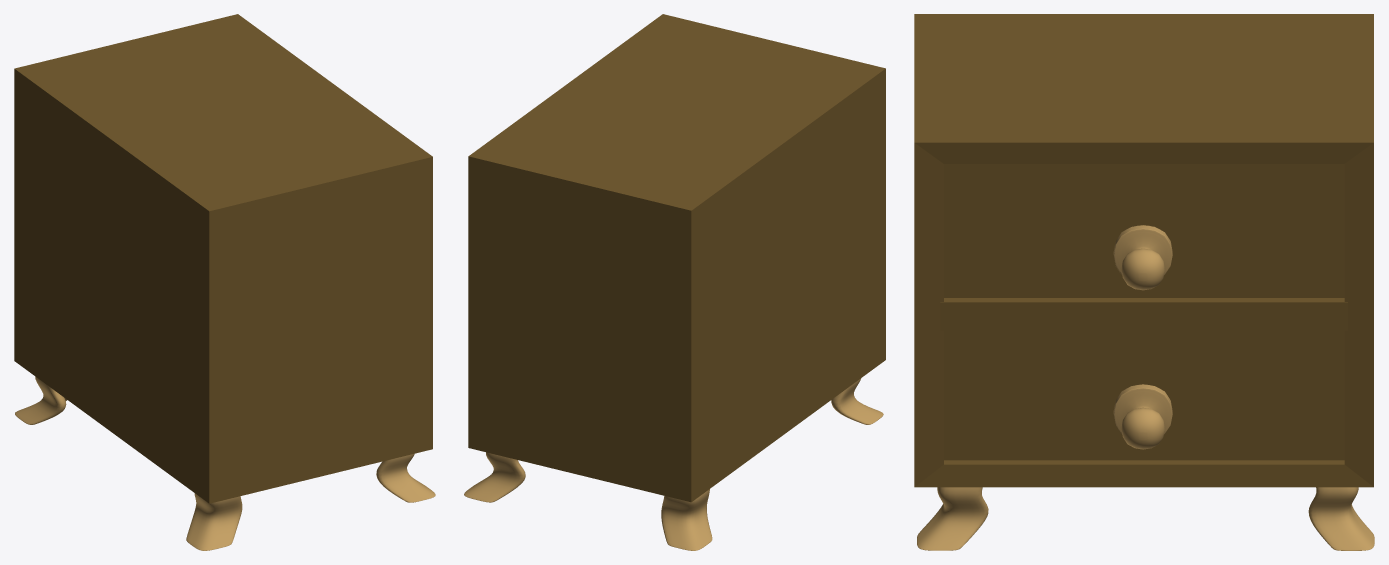
Rendered from Bedside_Table.fbx.
The picture shows the model from 3 angles, left to right: view 1: azimuth 30°, elevation 25°; view 2: azimuth 150°, elevation 25°; view 3: azimuth 270°, elevation 25°; orthographic projection. The views are drawn at different scales.
Parts seen in each view (by area): view 1: polySurface17; view 2: polySurface17; view 3: polySurface17.
Part boxes in pixels (box(x1,y1,x2,y2)): polySurface17: box(14, 14, 435, 550); polySurface17: box(464, 14, 885, 550); polySurface17: box(914, 14, 1374, 550).
Size of the model in its own units: 4.03 by 4.51 by 4.66.
